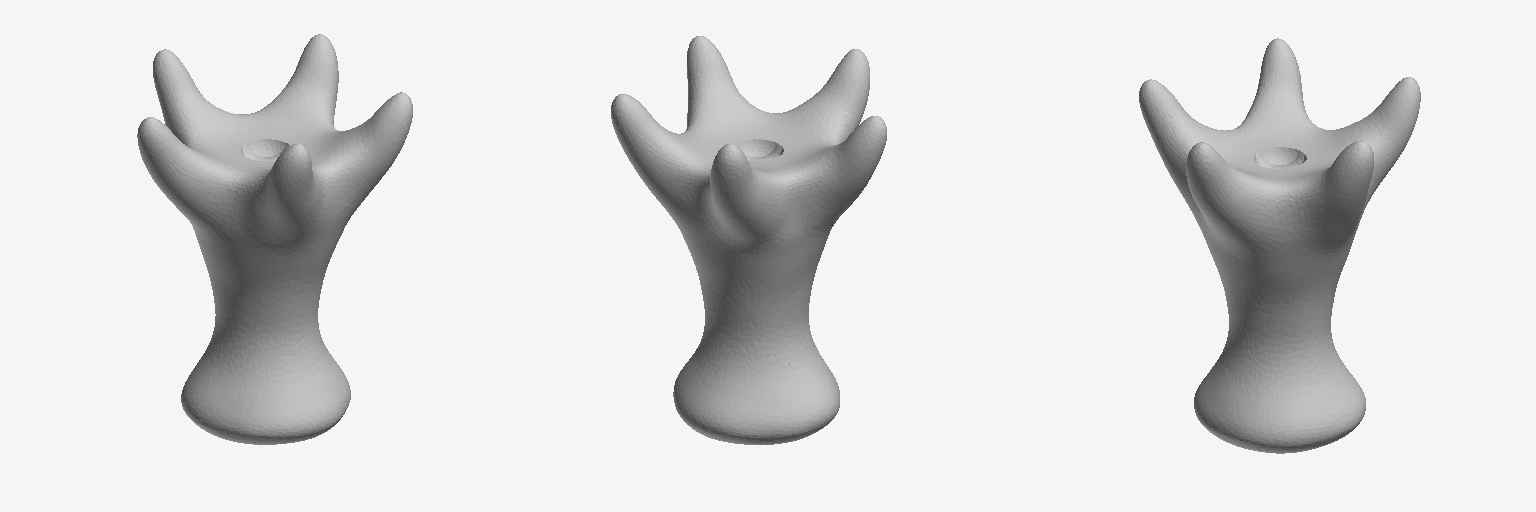
The model's file is eater-with-cradle.obj.
The picture shows the model from 3 angles: view 1: azimuth 30°, elevation 25°; view 2: azimuth 150°, elevation 25°; view 3: azimuth 270°, elevation 25°; orthographic projection.
Parts seen in each view (by area): view 1: Quad_Sphere; view 2: Quad_Sphere; view 3: Quad_Sphere.
Part boxes in pixels (bbox=[...]): Quad_Sphere: bbox=[137, 34, 412, 444]; Quad_Sphere: bbox=[611, 36, 886, 444]; Quad_Sphere: bbox=[1139, 38, 1420, 453].
Size of the model in its own units: 3.55 by 4.81 by 3.71.